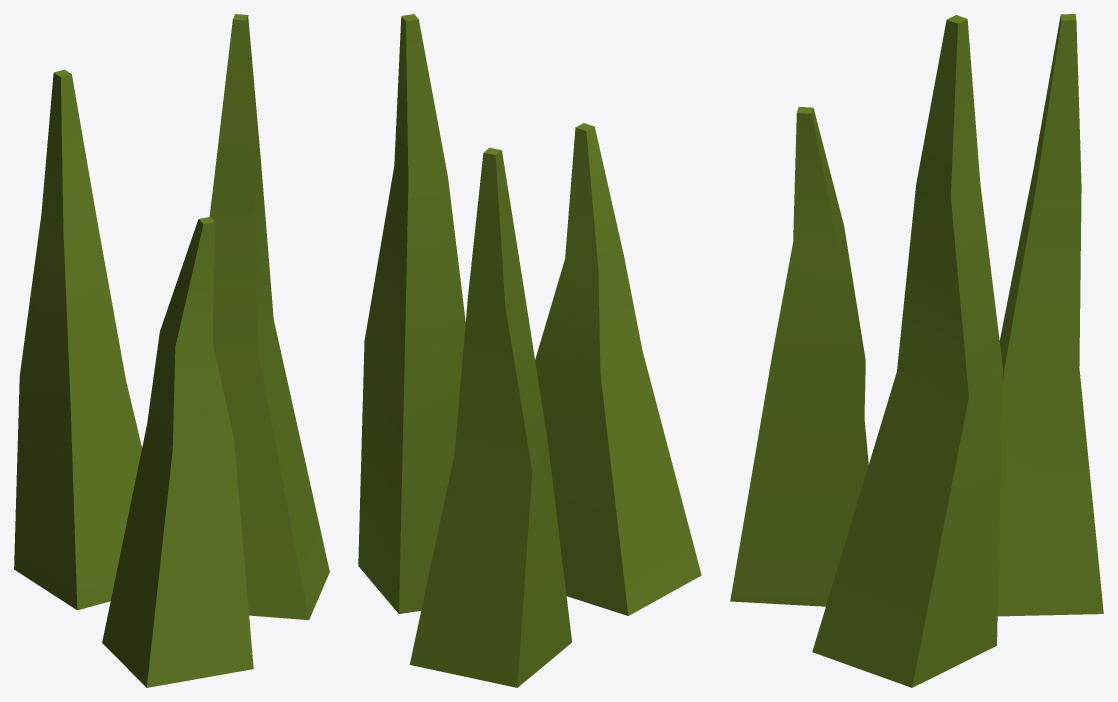
File: Grass_1_low.fbx
3 views of the same model, side by side, from view 1: azimuth 30°, elevation 25°; view 2: azimuth 150°, elevation 25°; view 3: azimuth 270°, elevation 25° (orthographic). The views are drawn at different scales.
Parts seen in each view (by area): view 1: Grass_1_low; view 2: Grass_1_low; view 3: Grass_1_low.
Part boxes in pixels (x1,y1,x2,y2): Grass_1_low: (14, 14, 329, 687); Grass_1_low: (358, 14, 701, 687); Grass_1_low: (730, 14, 1103, 687).
Bounding box in the file's own units: 0.1735 × 0.3606 × 0.1938.
